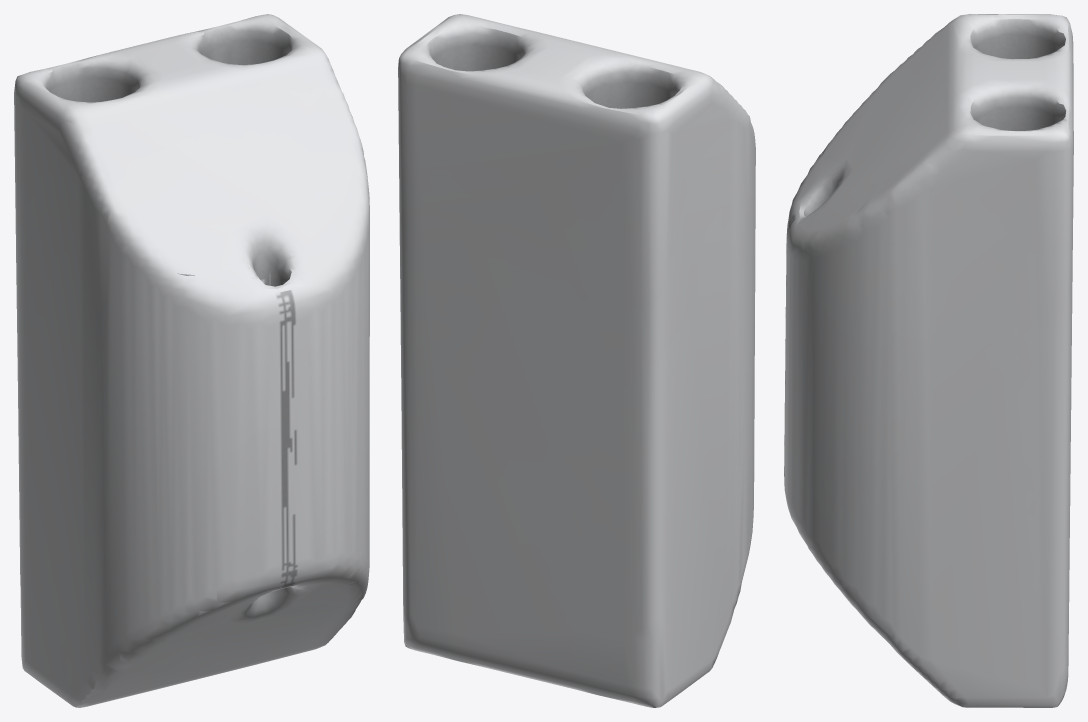
The model's file is right_finger3_lower.glb.
The picture shows the model from 3 angles, left to right: view 1: azimuth 30°, elevation 25°; view 2: azimuth 150°, elevation 25°; view 3: azimuth 270°, elevation 25°; orthographic projection. The views are drawn at different scales.
Parts seen in each view (by area): view 1: right_finger3_lower; view 2: right_finger3_lower; view 3: right_finger3_lower.
Part boxes in pixels (x1=…): right_finger3_lower: x1=14, y1=14, x2=369, y2=707; right_finger3_lower: x1=398, y1=14, x2=755, y2=707; right_finger3_lower: x1=784, y1=14, x2=1073, y2=707.
Bounding box in the file's own units: 0.0117 × 0.0251 × 0.0114.
1 material, 1 textured.
